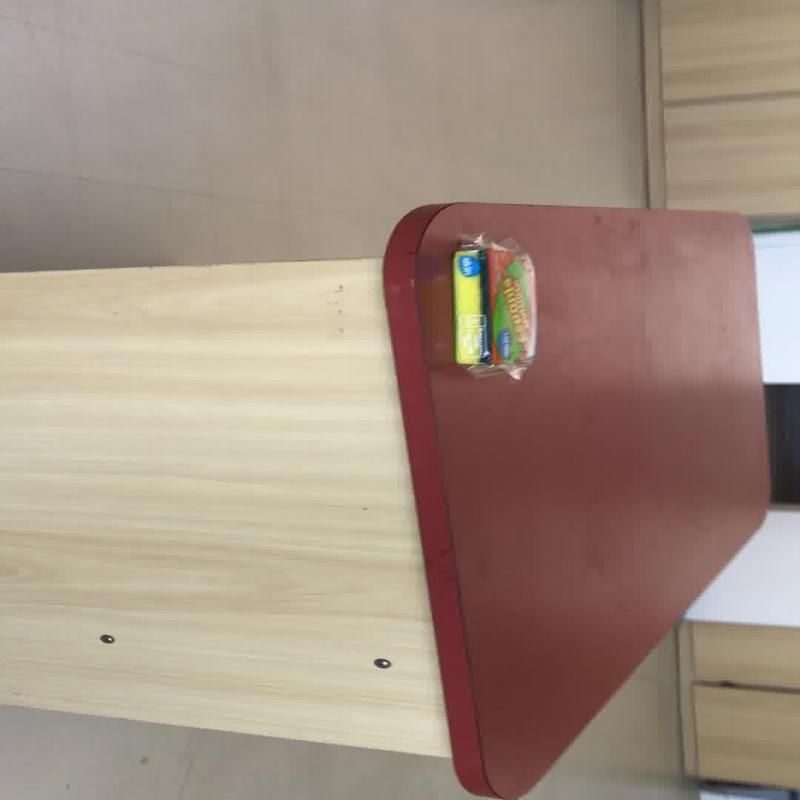sponge: (449, 233, 538, 378), (489, 251, 536, 368), (450, 238, 486, 364)
